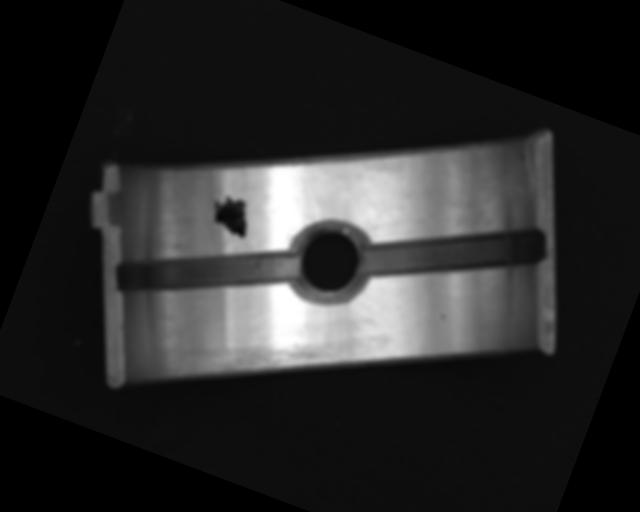blot: (203, 190, 258, 242)
bruise: (435, 311, 448, 323)
gap: (359, 178, 550, 329), (110, 200, 302, 345)
hole: (279, 209, 381, 313)
scratch: (172, 302, 343, 429)
